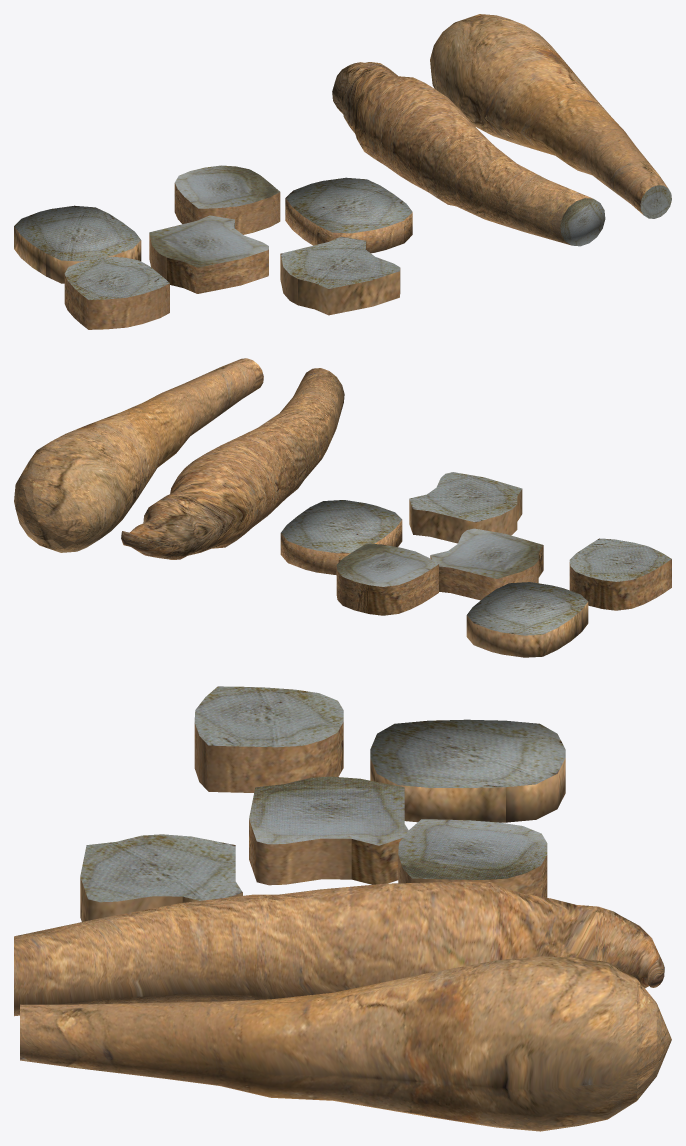
The model's file is baizhi.FBX.
3 views of the same model, one above another, from view 1: azimuth 30°, elevation 25°; view 2: azimuth 150°, elevation 25°; view 3: azimuth 270°, elevation 25° (orthographic). The views are drawn at different scales.
Visible parts, largest first — view 1: Cylinder008, Cylinder007, Cylinder005, Cylinder003, Cylinder004, Cylinder006, Cylinder001, Cylinder002; view 2: Cylinder008, Cylinder007, Cylinder001, Cylinder005, Cylinder002, Cylinder003, Cylinder006, Cylinder004; view 3: Cylinder008, Cylinder007, Cylinder001, Cylinder004, Cylinder006, Cylinder003, Cylinder002.
Part boxes in pixels (x1,y1,x2,y2): Cylinder008: (430, 14, 671, 218); Cylinder007: (332, 62, 605, 246); Cylinder005: (285, 177, 412, 253); Cylinder003: (280, 236, 400, 315); Cylinder004: (149, 215, 268, 293); Cylinder006: (64, 256, 169, 329); Cylinder001: (14, 205, 141, 283); Cylinder002: (174, 165, 280, 234); Cylinder008: (14, 358, 263, 552); Cylinder007: (121, 368, 344, 559); Cylinder001: (466, 582, 588, 657); Cylinder005: (280, 500, 402, 575); Cylinder002: (336, 543, 438, 615); Cylinder003: (409, 472, 522, 543); Cylinder006: (569, 538, 671, 610); Cylinder004: (430, 528, 543, 600); Cylinder008: (20, 956, 671, 1131); Cylinder007: (14, 881, 664, 1016); Cylinder001: (370, 719, 565, 822); Cylinder004: (249, 776, 408, 885); Cylinder006: (194, 686, 343, 792); Cylinder003: (80, 834, 242, 921); Cylinder002: (398, 819, 547, 897).
Size of the model in its own units: 48.61 by 8.63 by 31.65.
